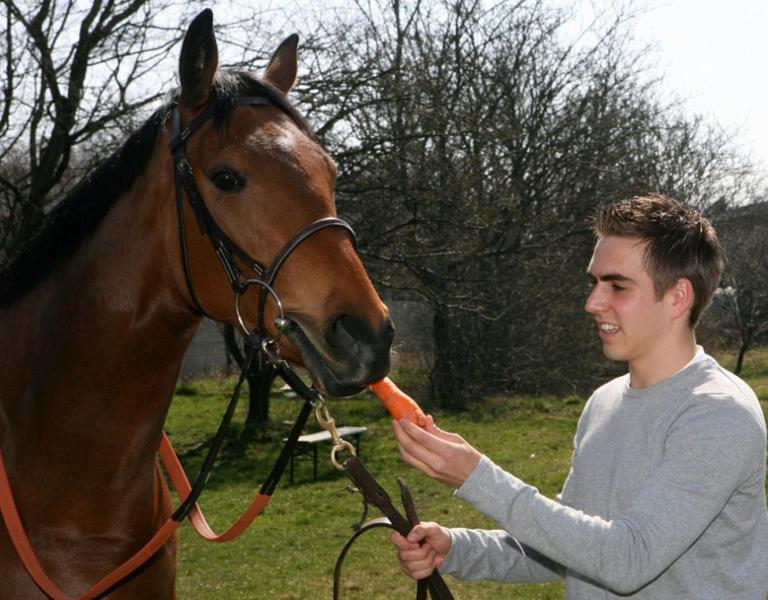person: (387, 192, 767, 598)
